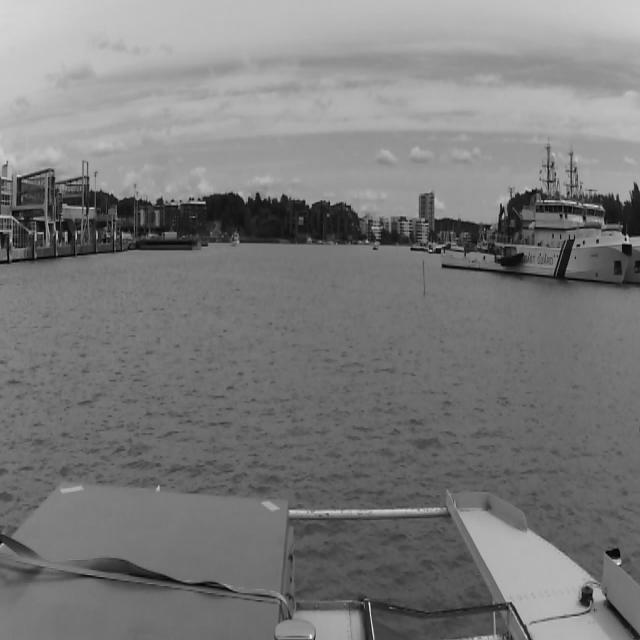buoy: (422, 260, 426, 294)
ship: (438, 122, 636, 284), (232, 231, 240, 246), (373, 243, 378, 250)
